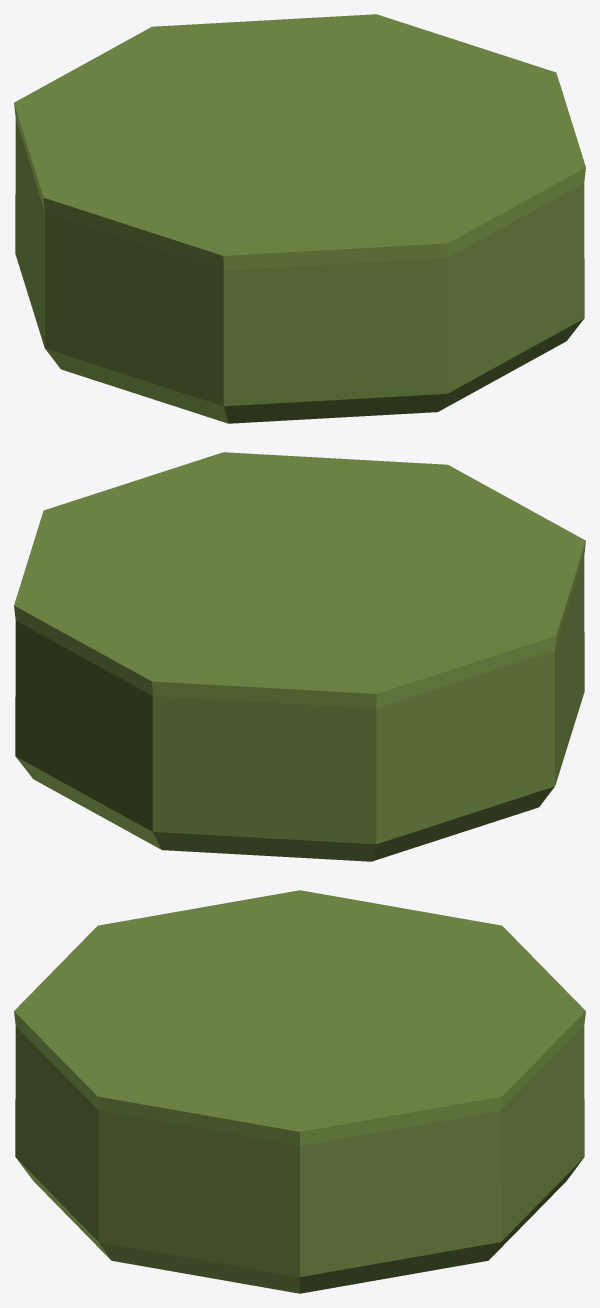
File: SM_Prop_JarLiquid_01.fbx
3 renders of one model, top to bottom at view 1: azimuth 30°, elevation 25°; view 2: azimuth 150°, elevation 25°; view 3: azimuth 270°, elevation 25°, orthographic. The views are drawn at different scales.
Visible parts, largest first — view 1: SM_Prop_JarLiquid_01; view 2: SM_Prop_JarLiquid_01; view 3: SM_Prop_JarLiquid_01.
Part boxes in pixels (left/top/right/bottom): SM_Prop_JarLiquid_01: left=14, top=14, right=585, bottom=423; SM_Prop_JarLiquid_01: left=14, top=452, right=585, bottom=861; SM_Prop_JarLiquid_01: left=14, top=890, right=585, bottom=1293.
Bounding box in the file's own units: 18.57 × 6.09 × 18.57.
